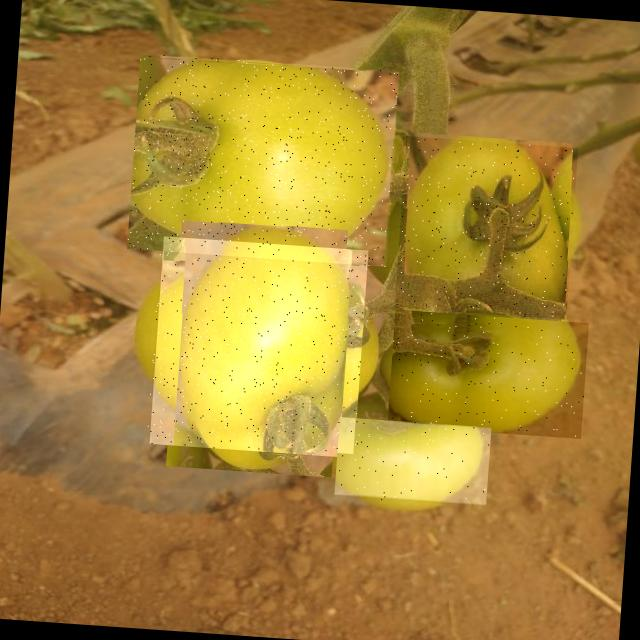Unripe Tomato: (126, 52, 400, 266), (146, 235, 368, 458), (394, 136, 578, 320), (386, 310, 588, 438), (334, 418, 491, 508)
